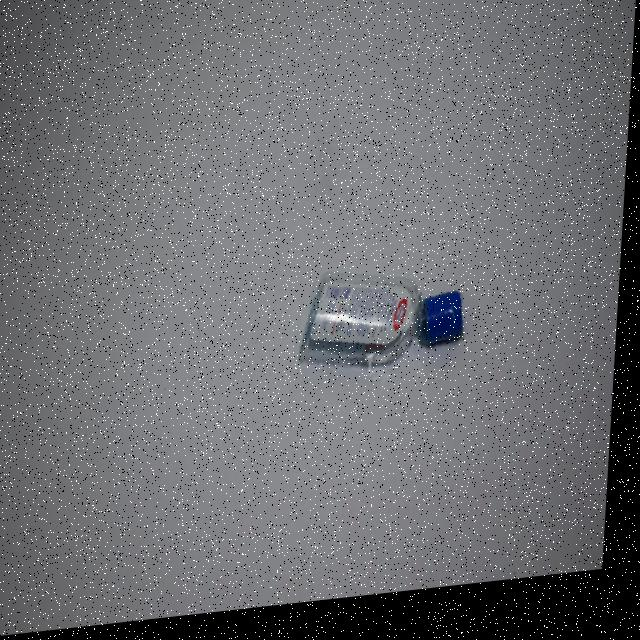litter: (302, 264, 434, 399), (423, 292, 474, 362)
